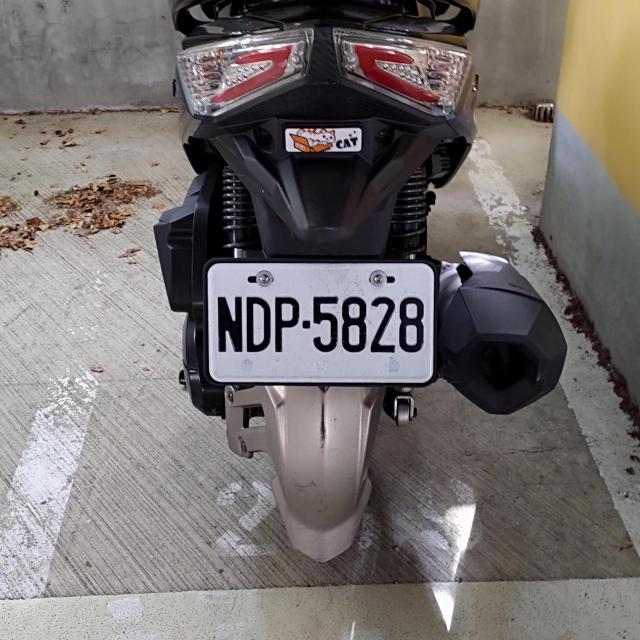W: (202, 255, 434, 384), (280, 118, 368, 158)
